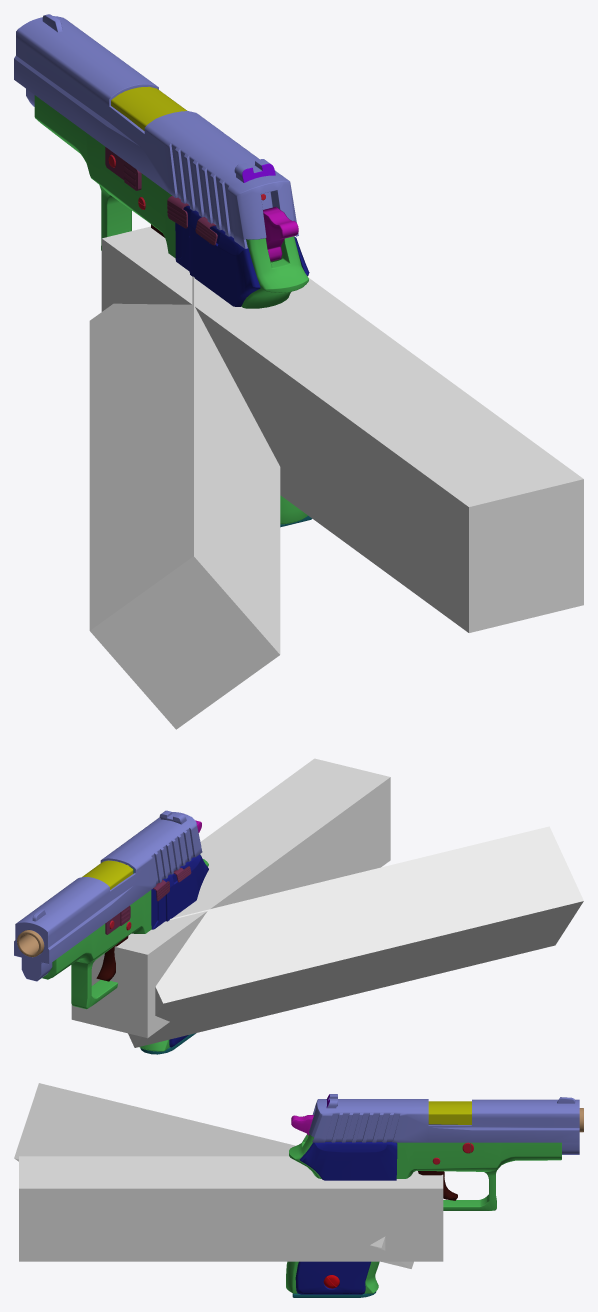
The model's file is pistol.glb.
3 renders of one model, top to bottom at view 1: azimuth 30°, elevation 25°; view 2: azimuth 150°, elevation 25°; view 3: azimuth 270°, elevation 25°, orthographic. The views are drawn at different scales.
Parts seen in each view (by area): view 1: Cube, Cube.001, Plane; view 2: Cube.001, Cube, Plane; view 3: Cube, Plane, Cube.001.
Boxes of the visible parts, <box> form: Cube: <box>101,226,583,632</box>; Cube.001: <box>89,276,280,729</box>; Plane: <box>14,14,312,527</box>; Cube.001: <box>128,826,583,1047</box>; Cube: <box>71,758,390,1038</box>; Plane: <box>14,810,208,1054</box>; Cube: <box>19,1156,443,1261</box>; Plane: <box>286,1094,583,1297</box>; Cube.001: <box>14,1083,413,1268</box>.
Bounding box in the file's own units: 3.36 × 2.34 × 6.23.
